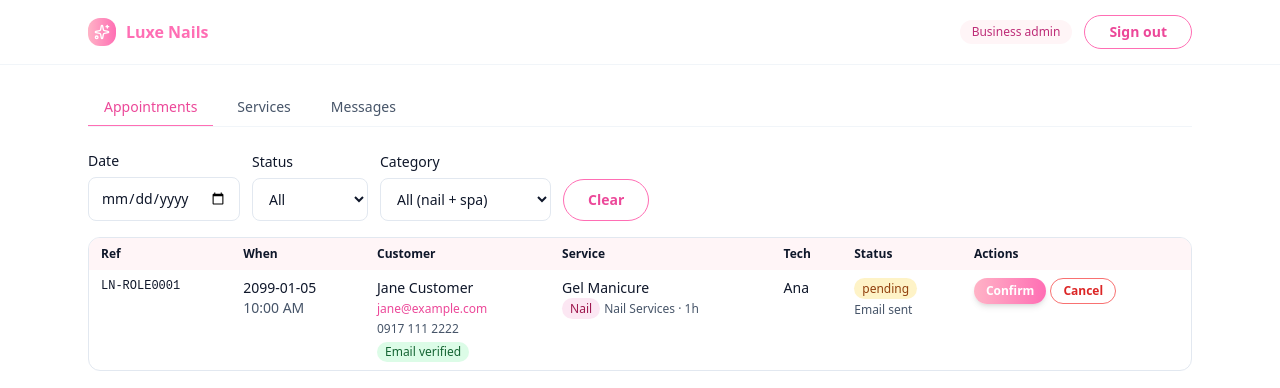
Test case: business admin › keeps using appointments and messages
The image size is (1280, 388).
Expected: the text "LN-ROLE0001" is shown, 89,270 -> 231,370
Expected: the button "Confirm" is shown, 974,278 -> 1046,304
Click the tab "Messages" at (363, 108), box 315,89 -> 412,127
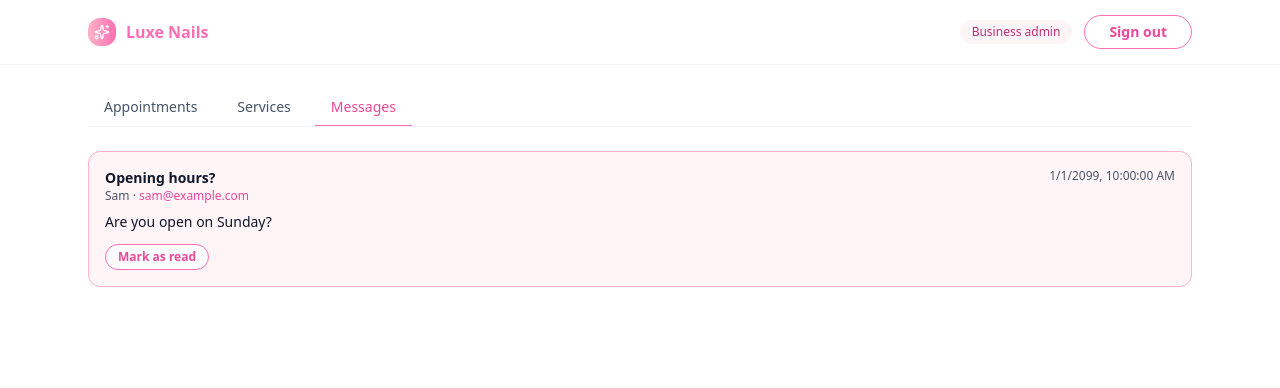
Result: the text "Opening hours?" is shown at 105,168 -> 216,188
Result: the button "Mark as read" is shown at 105,244 -> 209,270
